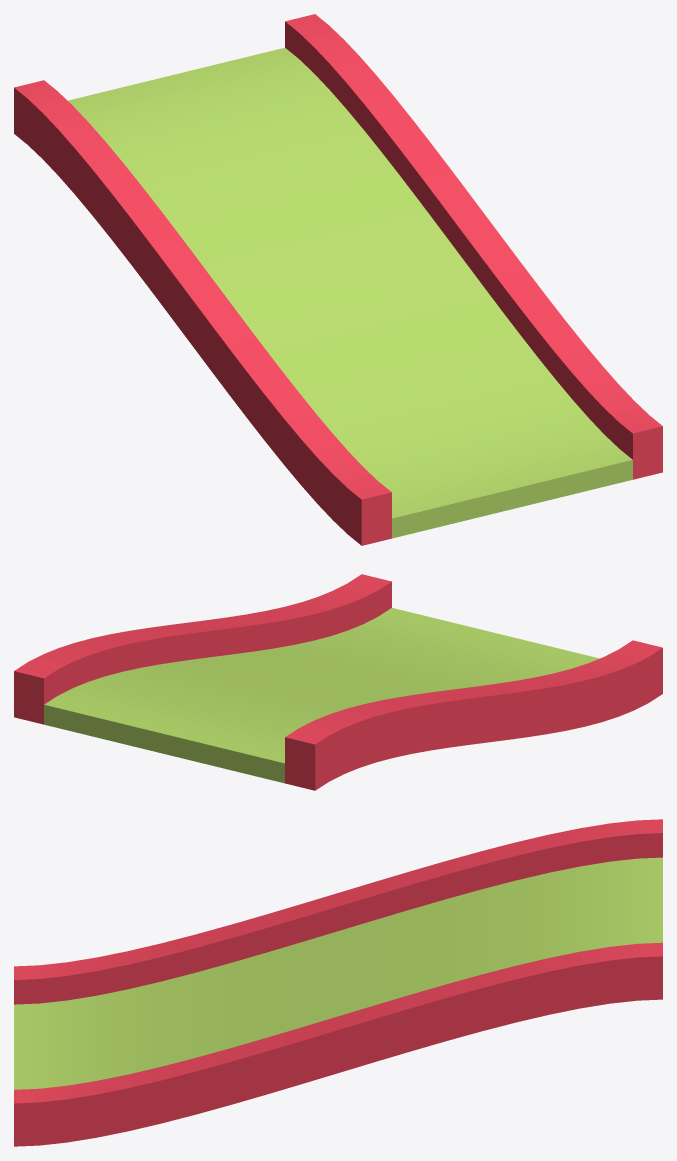
The model's file is rampLarge.glb.
3 views of the same model, one above another, from view 1: azimuth 30°, elevation 25°; view 2: azimuth 150°, elevation 25°; view 3: azimuth 270°, elevation 25° (orthographic). The views are drawn at different scales.
Visible parts, largest first — view 1: rampLarge; view 2: rampLarge; view 3: rampLarge.
Part boxes in pixels (bbox=[...]): rampLarge: bbox=[14, 14, 662, 545]; rampLarge: bbox=[14, 574, 662, 790]; rampLarge: bbox=[14, 819, 662, 1146].
Size of the model in its own units: 0.9999 by 0.6467 by 2.
